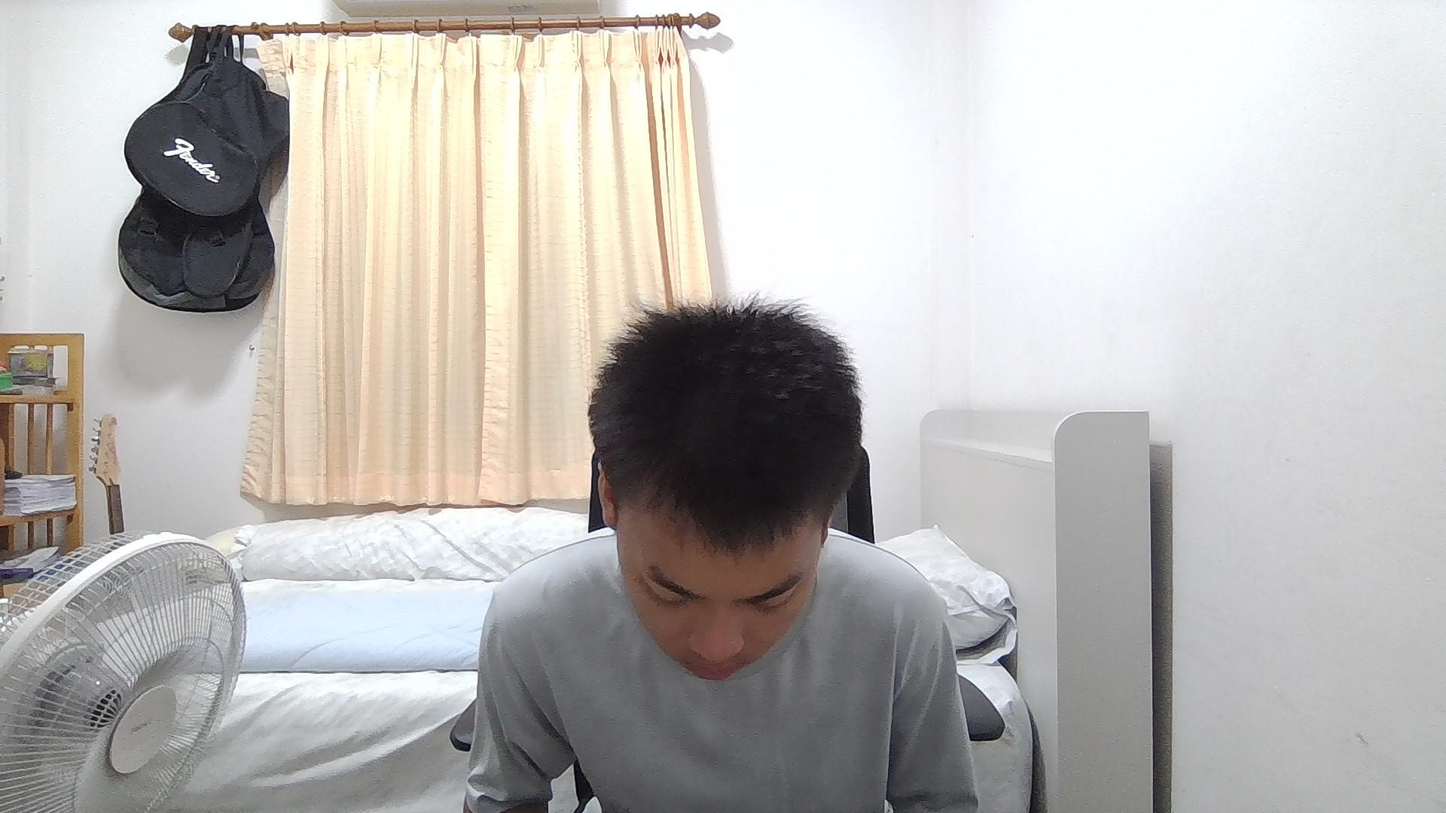BadPosture: (463, 302, 982, 812)
